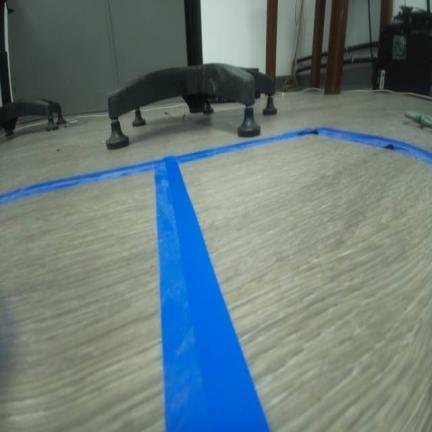place: (153, 125, 431, 431), (1, 150, 271, 430)
